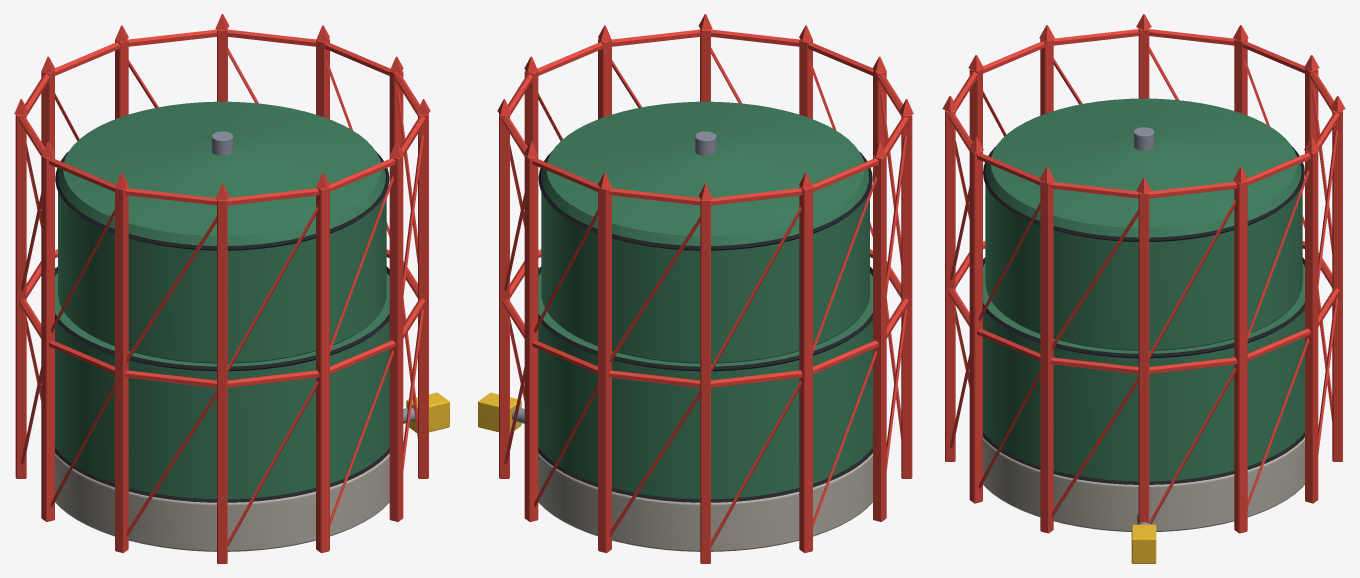
Rendered from gasholder.glb.
3 views of the same model, side by side, from view 1: azimuth 30°, elevation 25°; view 2: azimuth 150°, elevation 25°; view 3: azimuth 270°, elevation 25° (orthographic). The views are drawn at different scales.
Visible parts, largest first — view 1: gasholder; view 2: gasholder; view 3: gasholder.
Part boxes in pixels (left/top/right/bottom): gasholder: left=14, top=14, right=449, bottom=563; gasholder: left=478, top=14, right=913, bottom=563; gasholder: left=942, top=14, right=1345, bottom=563.
Size of the model in its own units: 25.45 by 22.8 by 22.9.
1 material, 1 textured.
